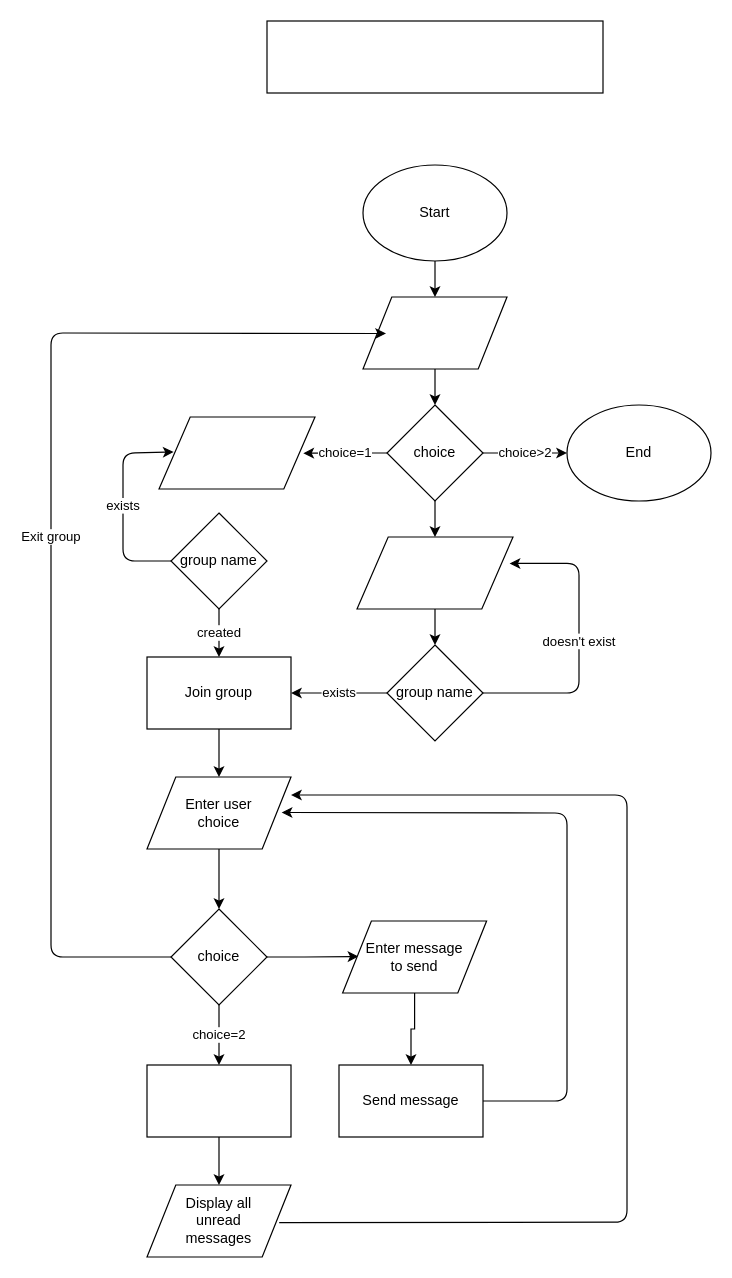
Image size: 732x1278. Some labels were removed from this diagram. The centre of each missing label's shape, as x and y in pixels:
"Enter group name create" belongs at pixel 236 452.
"Enter group name to join" belongs at pixel 434 572.
"Flow Chart" belongs at pixel 434 56.
"Input choice of user" belongs at pixel 434 332.
"Receive all unread messages" belongs at pixel 218 1100.
